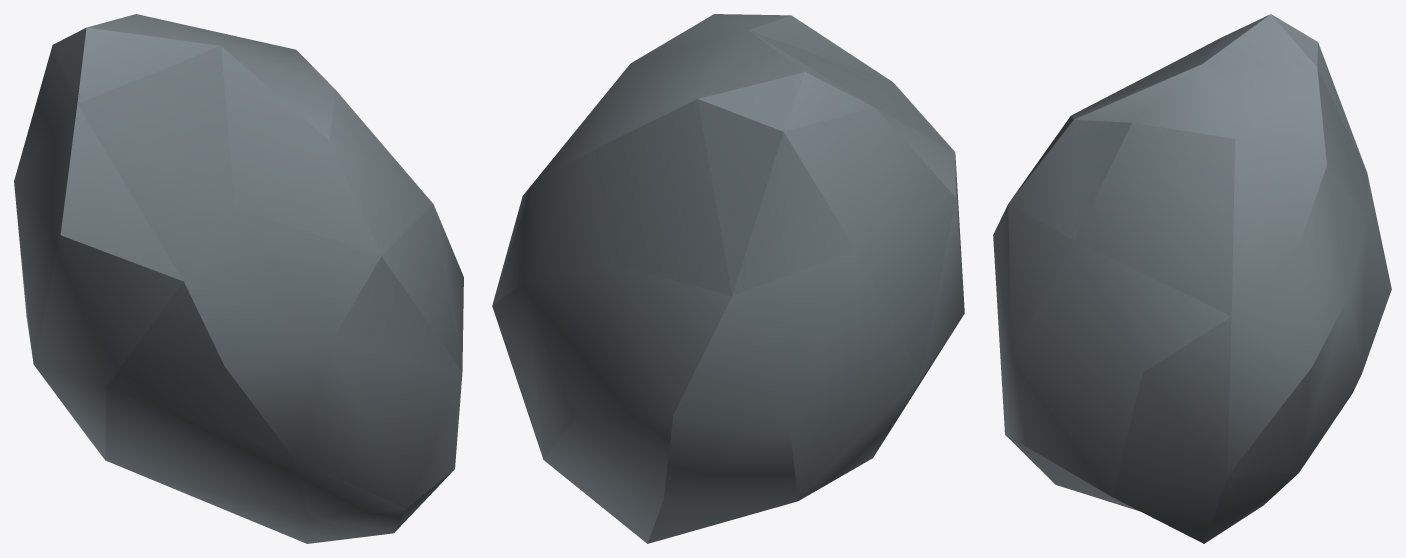
File: Rock_3_B_Color1.glb
3 views of the same model, side by side, from view 1: azimuth 30°, elevation 25°; view 2: azimuth 150°, elevation 25°; view 3: azimuth 270°, elevation 25° (orthographic). The views are drawn at different scales.
Parts seen in each view (by area): view 1: Rock_3_B_Color1; view 2: Rock_3_B_Color1; view 3: Rock_3_B_Color1.
Part boxes in pixels (x1=…): Rock_3_B_Color1: x1=14, y1=14, x2=463, y2=543; Rock_3_B_Color1: x1=492, y1=14, x2=964, y2=543; Rock_3_B_Color1: x1=993, y1=14, x2=1391, y2=543.
Size of the model in its own units: 0.8192 by 1.03 by 0.8468.
1 material, 1 textured.
